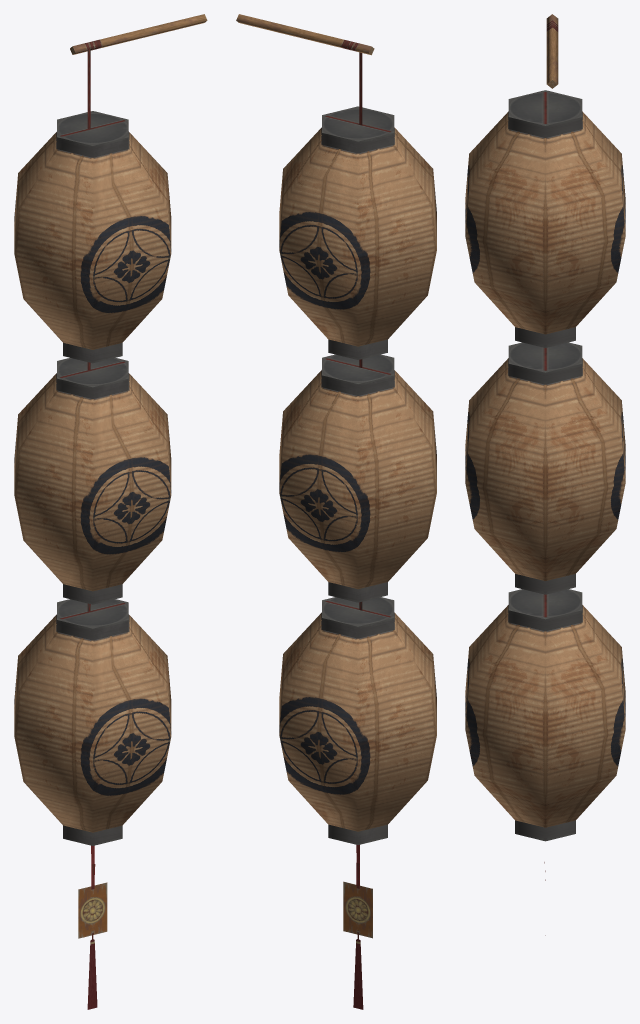
Rendered from i_zx_youzhideng01_lod1.FBX.
The picture shows the model from 3 angles, left to right: view 1: azimuth 30°, elevation 25°; view 2: azimuth 150°, elevation 25°; view 3: azimuth 270°, elevation 25°; orthographic projection. The views are drawn at different scales.
Visible parts, largest first — view 1: i_zx_youzhideng01_lod1; view 2: i_zx_youzhideng01_lod1; view 3: i_zx_youzhideng01_lod1.
Part boxes in pixels (bbox=[...]): i_zx_youzhideng01_lod1: bbox=[14, 14, 207, 1009]; i_zx_youzhideng01_lod1: bbox=[236, 14, 436, 1009]; i_zx_youzhideng01_lod1: bbox=[465, 14, 625, 935].
Size of the model in its own units: 0.5234 by 2.49 by 0.3669.
